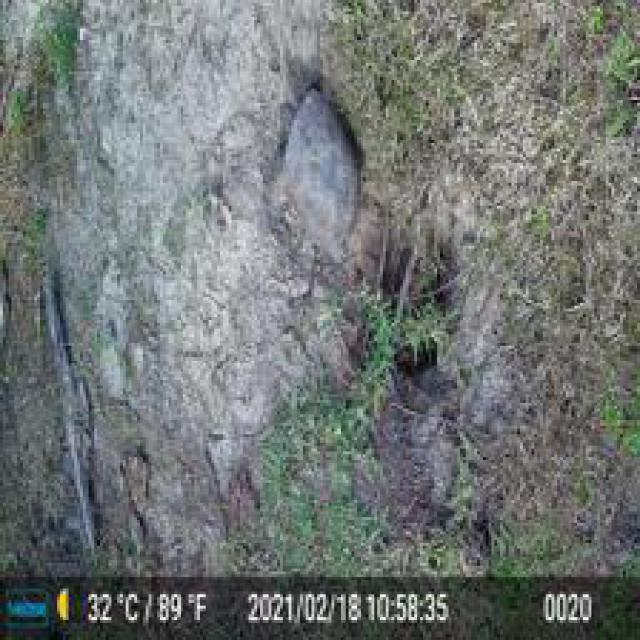tortoise: (272, 86, 357, 257)
